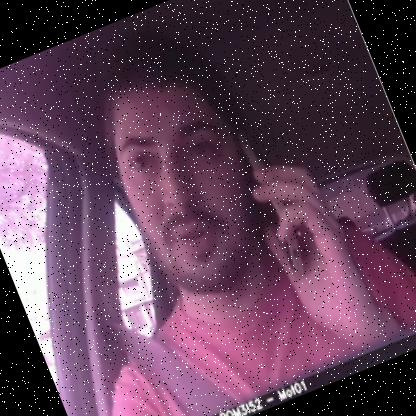phone: (227, 122, 320, 290)
